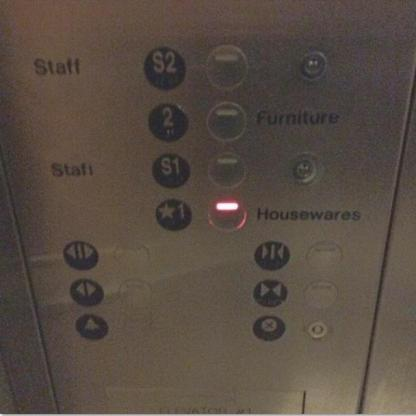2: (147, 101, 188, 140)
S1: (151, 152, 189, 188)
S2: (140, 44, 186, 91)
alarm: (73, 311, 108, 340)
close: (253, 238, 291, 272), (252, 278, 288, 307)
empty: (205, 44, 248, 90), (206, 100, 246, 142), (206, 151, 245, 189), (206, 196, 246, 231), (305, 240, 342, 272), (116, 309, 152, 341), (112, 241, 149, 272), (116, 278, 152, 308), (303, 279, 338, 309)
keyhole: (286, 152, 322, 186), (297, 50, 327, 80), (302, 318, 330, 341)
open: (60, 238, 99, 270), (68, 276, 104, 306)
s1: (154, 197, 192, 231)
stop: (251, 313, 287, 341)
